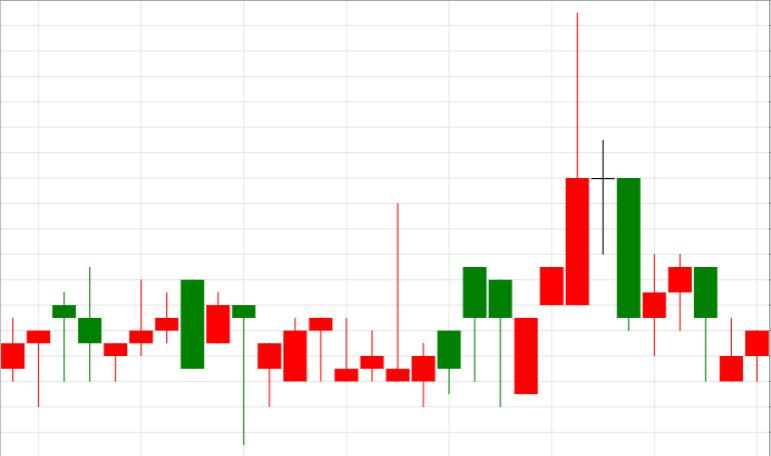evening_star_fall: (514, 12, 641, 394)
